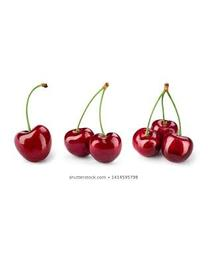cherry: (14, 126, 52, 162), (90, 133, 122, 163), (133, 126, 162, 158), (163, 134, 193, 164), (64, 128, 95, 157), (151, 120, 179, 147)
